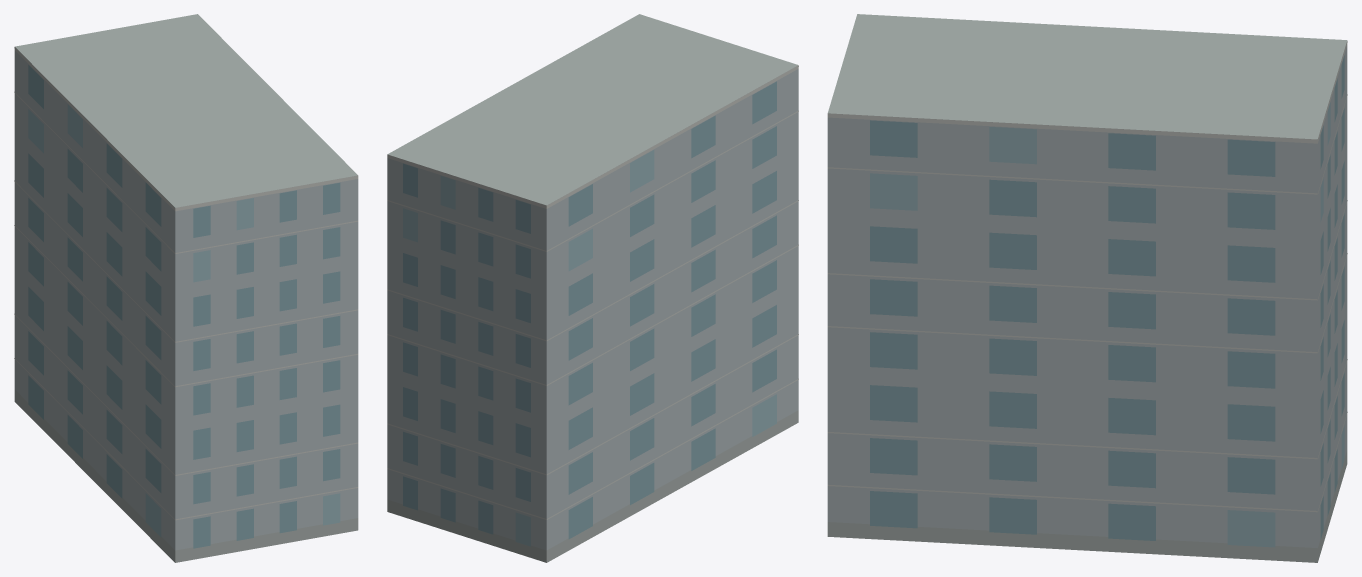
The model's file is residential-dad196a4-49cc-48c3-b202-06e0d2ca7b76.glb.
The picture shows the model from 3 angles, left to right: view 1: azimuth 30°, elevation 25°; view 2: azimuth 150°, elevation 25°; view 3: azimuth 270°, elevation 25°; orthographic projection. The views are drawn at different scales.
Visible parts, largest first — view 1: residential-dad196a4-49cc-48c3-b202-06e0d2ca7b76.tmp; view 2: residential-dad196a4-49cc-48c3-b202-06e0d2ca7b76.tmp; view 3: residential-dad196a4-49cc-48c3-b202-06e0d2ca7b76.tmp.
Boxes of the visible parts, left/top/right/bottom form: residential-dad196a4-49cc-48c3-b202-06e0d2ca7b76.tmp: left=14, top=14, right=358, bottom=562; residential-dad196a4-49cc-48c3-b202-06e0d2ca7b76.tmp: left=387, top=14, right=798, bottom=562; residential-dad196a4-49cc-48c3-b202-06e0d2ca7b76.tmp: left=827, top=14, right=1347, bottom=562.
Size of the model in its own units: 15.53 by 24.4 by 27.17.
